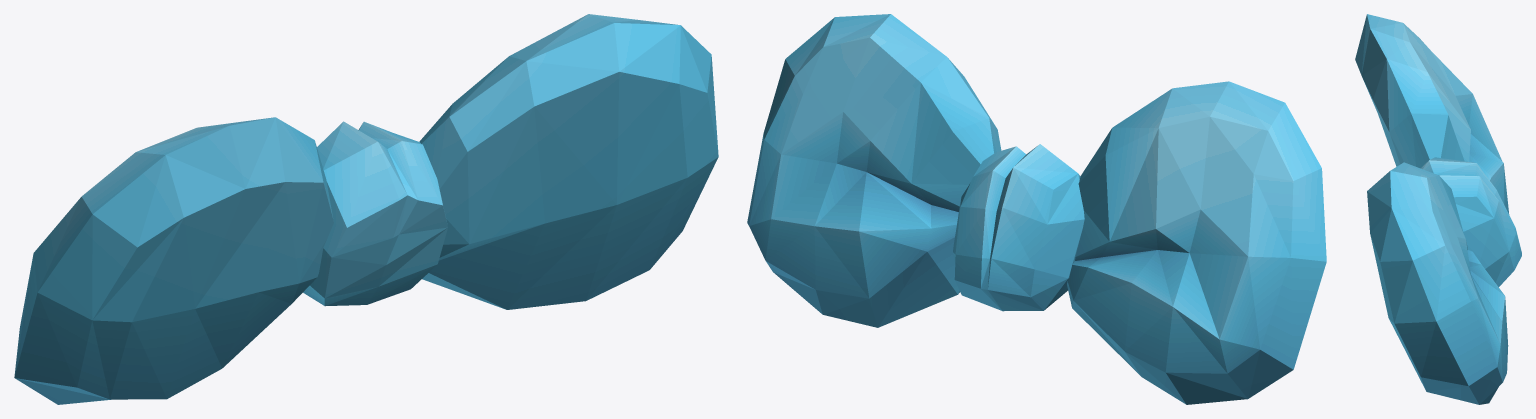
File: CharSkyKid_Neck_PastryBow.glb
The picture shows the model from 3 angles, left to right: view 1: azimuth 30°, elevation 25°; view 2: azimuth 150°, elevation 25°; view 3: azimuth 270°, elevation 25°; orthographic projection. The views are drawn at different scales.
Parts seen in each view (by area): view 1: CharSkyKid_Neck_PastryBow; view 2: CharSkyKid_Neck_PastryBow; view 3: CharSkyKid_Neck_PastryBow.
Part boxes in pixels (x1,y1,x2,y2): CharSkyKid_Neck_PastryBow: (14, 14, 718, 404); CharSkyKid_Neck_PastryBow: (747, 14, 1326, 404); CharSkyKid_Neck_PastryBow: (1355, 14, 1521, 404).
Bounding box in the file's own units: 2.1 × 0.9684 × 0.629.
1 material, 1 textured.
